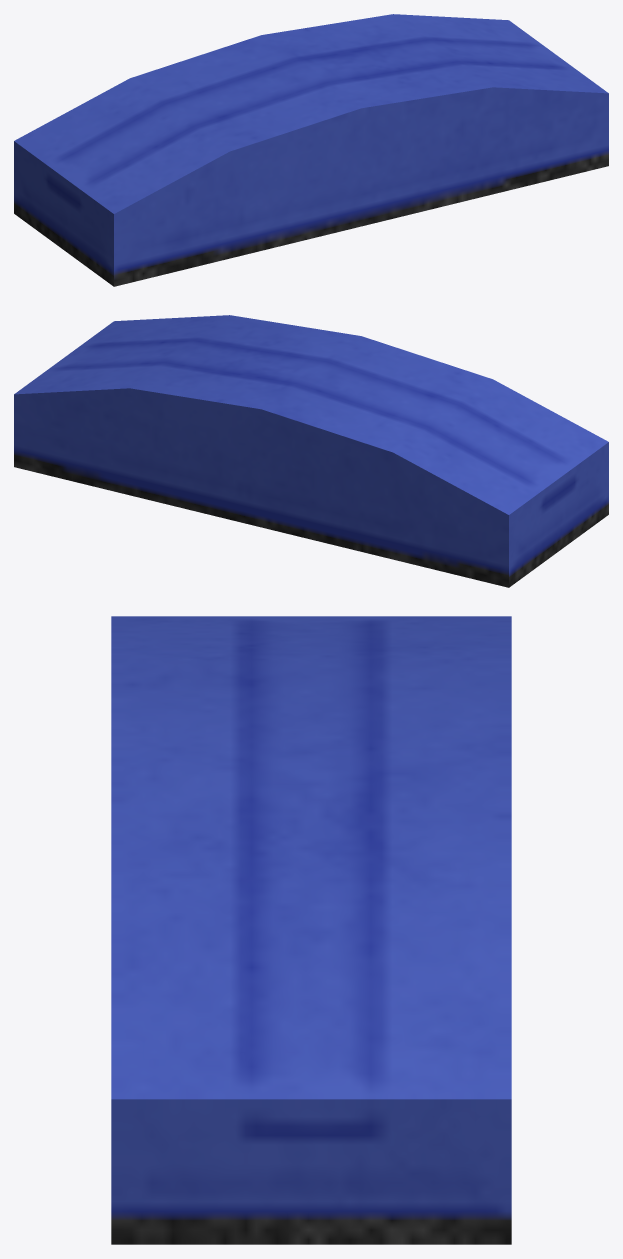
File: Brush.FBX
The picture shows the model from 3 angles, top to bottom: view 1: azimuth 30°, elevation 25°; view 2: azimuth 150°, elevation 25°; view 3: azimuth 270°, elevation 25°; orthographic projection. The views are drawn at different scales.
Visible parts, largest first — view 1: Brush; view 2: Brush; view 3: Brush.
Part boxes in pixels (x1=…): Brush: x1=14, y1=14, x2=608, y2=286; Brush: x1=14, y1=315, x2=608, y2=587; Brush: x1=111, y1=616, x2=511, y2=1244.
Size of the model in its own units: 3.94 by 0.8981 by 1.38.
